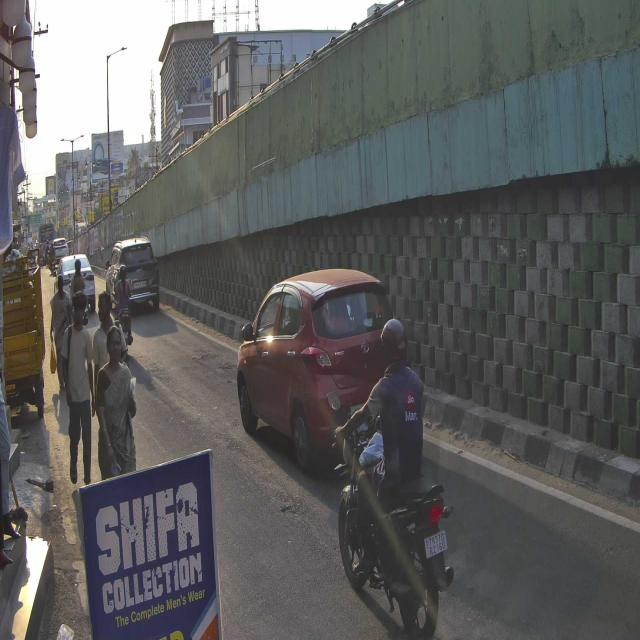single_rider: (327, 314, 456, 640)
